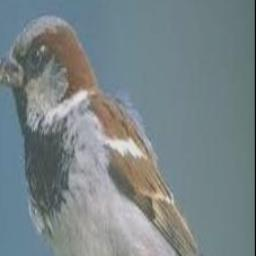Sparrow: (0, 14, 245, 256)
